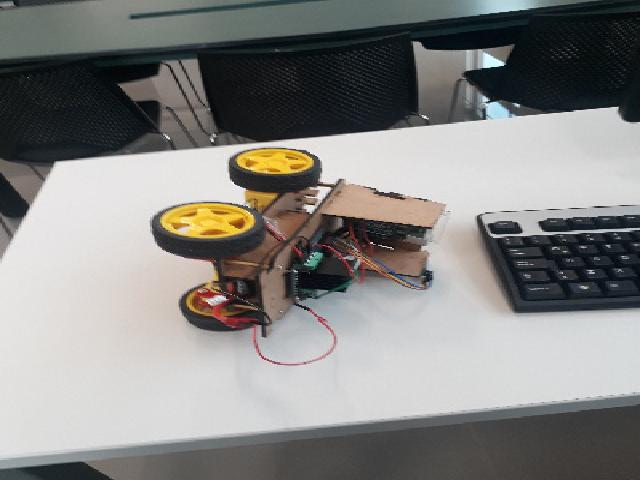Robot: (149, 146, 446, 336)
